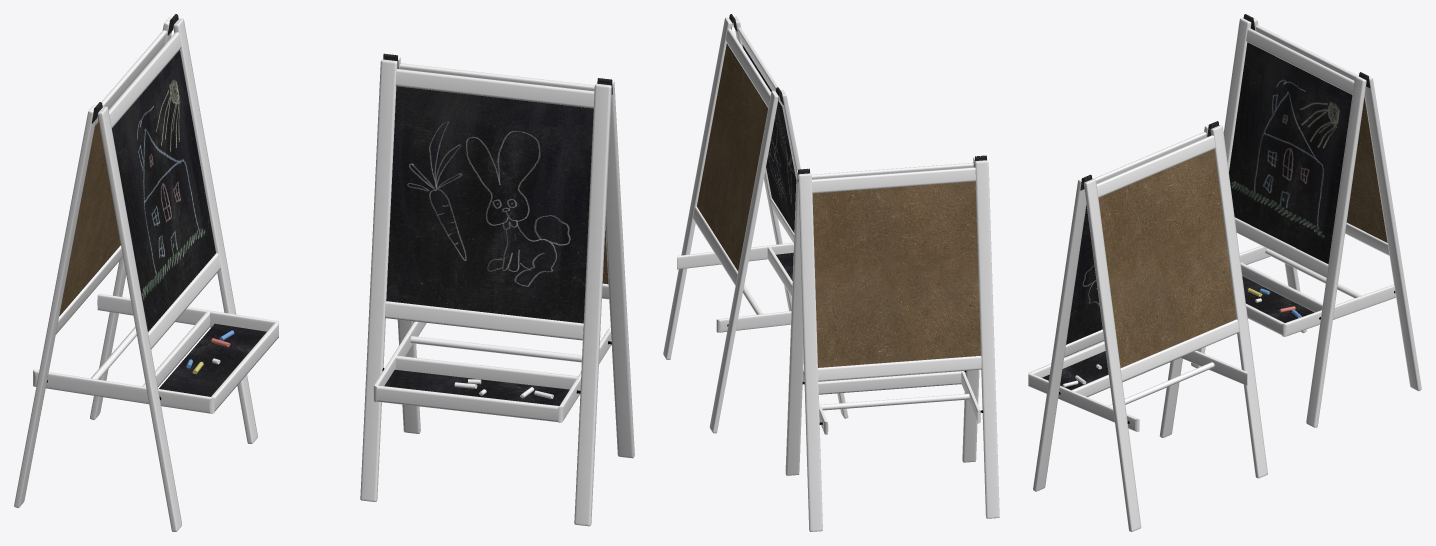
Rendered from Scrible Boards.FBX.
The picture shows the model from 3 angles, left to right: view 1: azimuth 30°, elevation 25°; view 2: azimuth 150°, elevation 25°; view 3: azimuth 270°, elevation 25°; orthographic projection. The views are drawn at different scales.
Visible parts, largest first — view 1: Plane004, Plane006, Box015, Box016, Box022, Box029, Plane007, Box034, Box028, Box040, Box017, Box018 (+17 smaller); view 2: Plane007, Plane005, Box035, Box034, Box028, Box021, Box022, Plane004, Box033, Box032, Box039, Box029 (+10 smaller); view 3: Plane005, Plane006, Box022, Box028, Box021, Box015, Box035, Plane007, Plane004, Box020, Box019, Box030 (+18 smaller).
Part boxes in pixels (<box>): Plane004: <box>386,86,593,323</box>; Plane006: <box>112,50,215,331</box>; Box015: <box>574,83,611,526</box>; Box016: <box>360,59,397,501</box>; Box022: <box>605,80,634,458</box>; Box029: <box>97,106,181,531</box>; Plane007: <box>59,122,120,316</box>; Box034: <box>14,105,96,508</box>; Box028: <box>173,18,257,443</box>; Box040: <box>159,323,266,396</box>; Box017: <box>395,69,594,108</box>; Box018: <box>385,301,583,340</box>; Plane007: <box>812,181,980,367</box>; Plane005: <box>697,43,768,271</box>; Box035: <box>798,173,822,531</box>; Box034: <box>975,160,999,518</box>; Box028: <box>785,170,810,475</box>; Box021: <box>709,91,778,433</box>; Box022: <box>663,17,732,359</box>; Plane004: <box>742,44,796,232</box>; Box033: <box>812,167,975,193</box>; Box032: <box>818,355,981,381</box>; Box039: <box>818,371,961,394</box>; Box029: <box>962,157,987,462</box>; Plane005: <box>1098,149,1236,367</box>; Plane006: <box>1229,42,1352,264</box>; Box022: <box>1084,179,1141,531</box>; Box028: <box>1306,76,1366,427</box>; Box021: <box>1210,125,1267,478</box>; Box015: <box>1033,177,1086,491</box>; Box035: <box>1364,73,1421,391</box>; Plane007: <box>1346,97,1387,242</box>; Plane004: <box>1066,205,1102,344</box>; Box020: <box>1096,135,1215,197</box>; Box019: <box>1120,319,1239,381</box>; Box030: <box>1246,28,1354,94</box>.
Bounding box in the file's own units: 57.64 × 43.82 × 46.88.
Materials: 11 (5 with a texture image).
